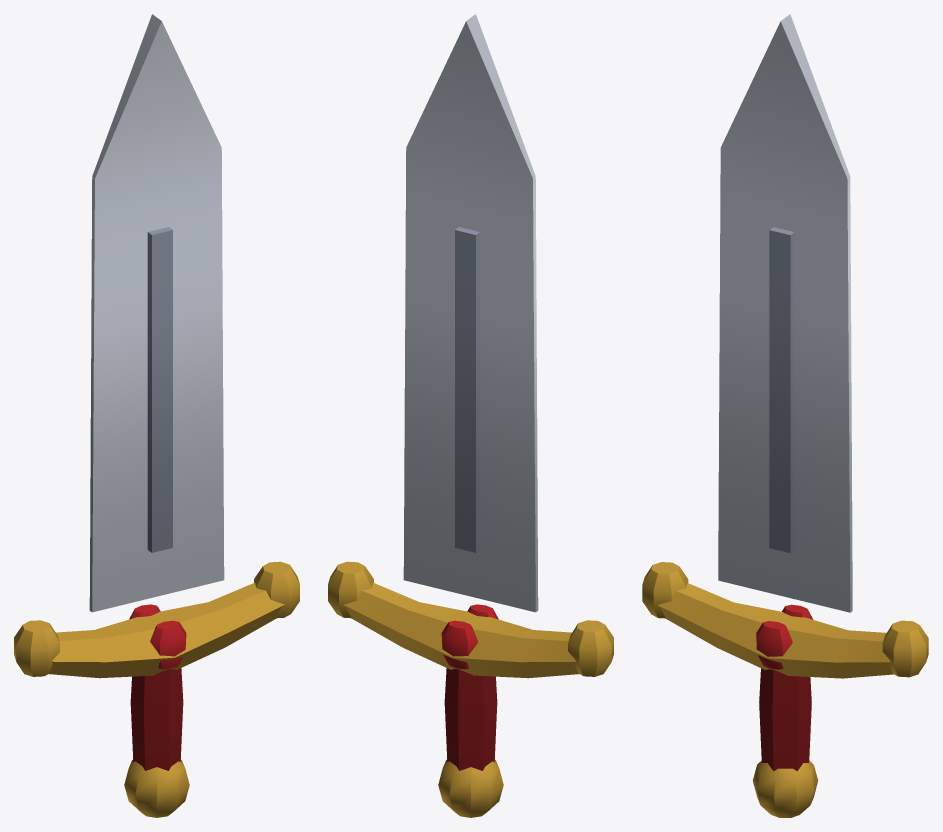
Rendered from Weapon_HeavySword.fbx.
The picture shows the model from 3 angles, left to right: view 1: azimuth 30°, elevation 25°; view 2: azimuth 150°, elevation 25°; view 3: azimuth 330°, elevation 25°; orthographic projection.
Visible parts, largest first — view 1: HeavySword; view 2: HeavySword; view 3: HeavySword.
Part boxes in pixels (x1,y1,x2,y2): HeavySword: [14, 14, 299, 817]; HeavySword: [328, 14, 613, 817]; HeavySword: [642, 14, 928, 817].
Size of the model in its own units: 0.2577 by 0.6947 by 0.0572.
